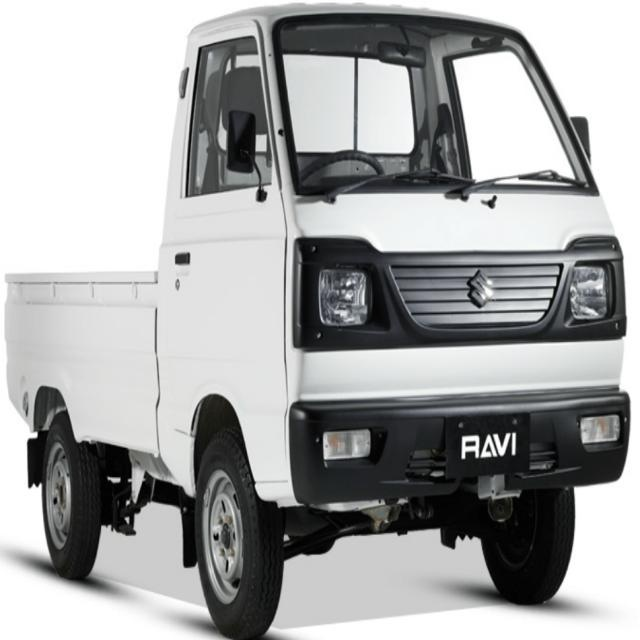Van: (6, 7, 630, 640)
